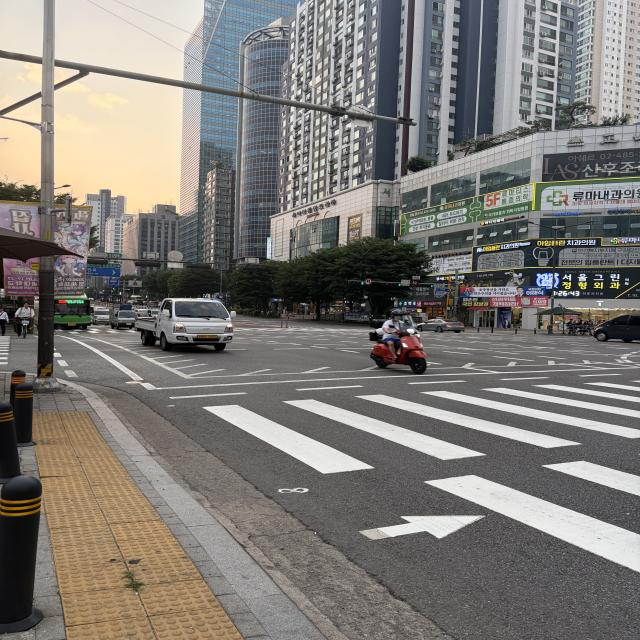bicycle: (10, 299, 39, 341)
car: (122, 287, 262, 362), (42, 289, 102, 336)
motorcycle: (349, 301, 442, 383)
